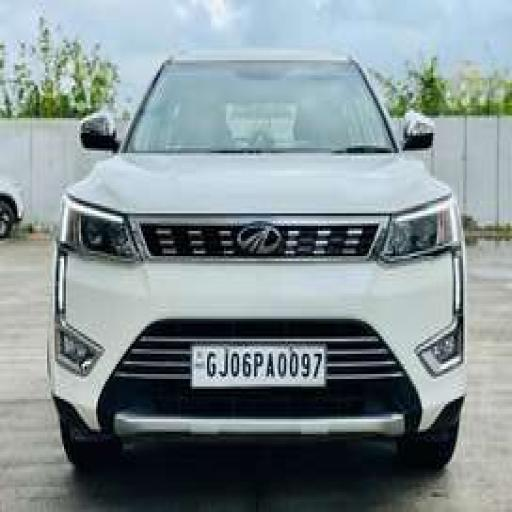license_plate`: (188, 339, 324, 384)
